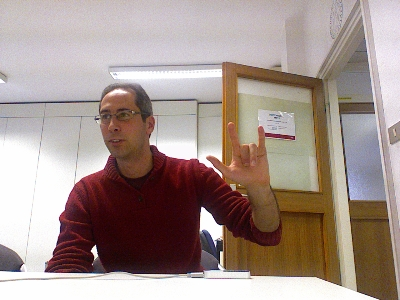我爱你: (204, 120, 271, 189)
